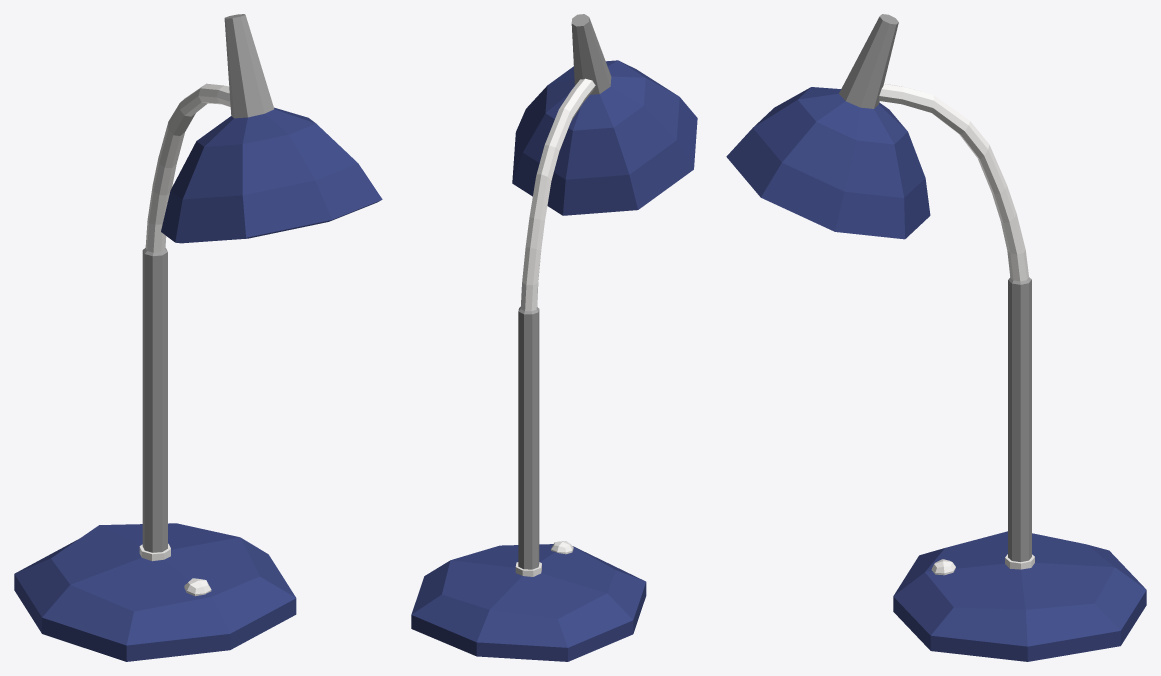
Rendered from Lamp_8.fbx.
The picture shows the model from 3 angles, left to right: view 1: azimuth 30°, elevation 25°; view 2: azimuth 150°, elevation 25°; view 3: azimuth 270°, elevation 25°; orthographic projection. The views are drawn at different scales.
Visible parts, largest first — view 1: Lamp_8; view 2: Lamp_8; view 3: Lamp_8.
Part boxes in pixels (x1,y1,x2,y2): Lamp_8: (14,14,382,661); Lamp_8: (411,14,697,661); Lamp_8: (726,14,1146,661).
Size of the model in its own units: 22.45 by 37.24 by 58.33.
